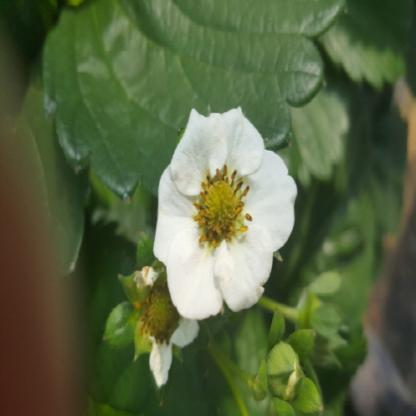Strawberry_Blossom_Blight: (187, 162, 255, 252)
